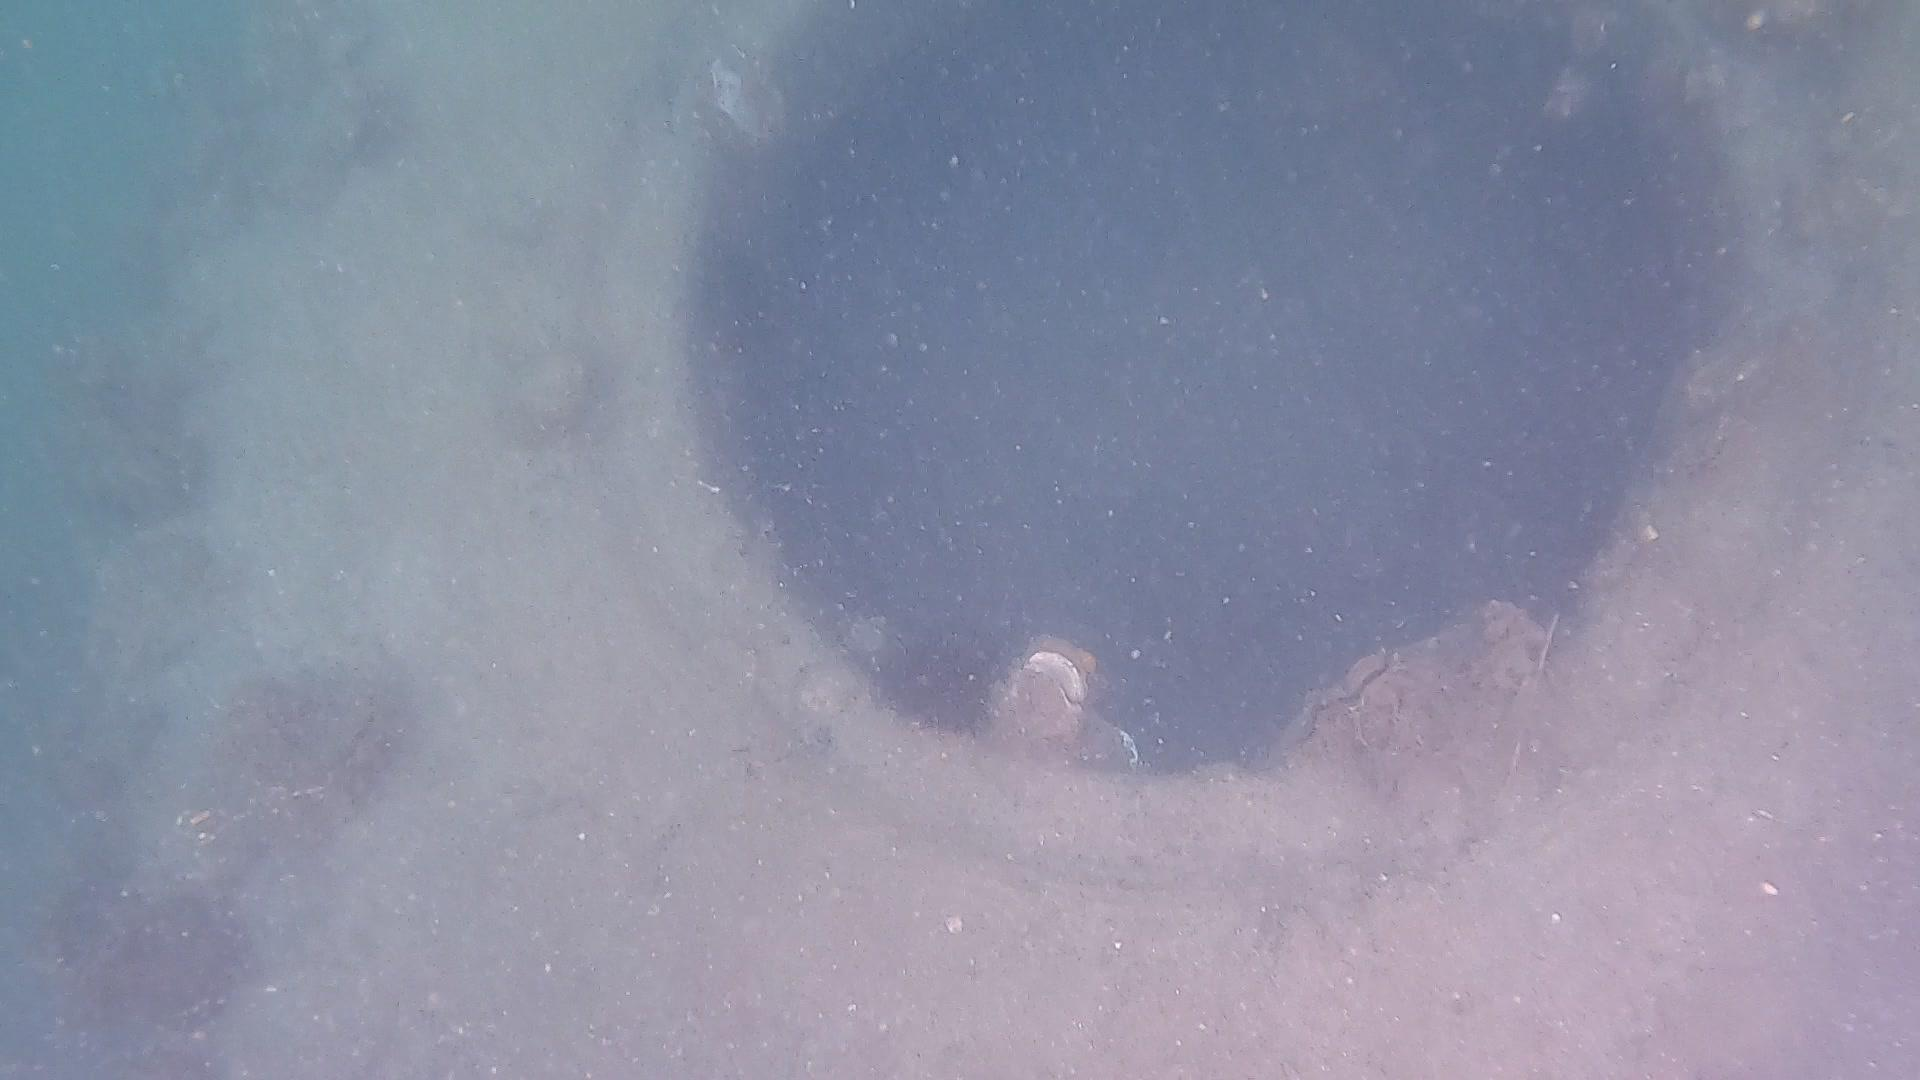tire: (73, 0, 1920, 1080)
